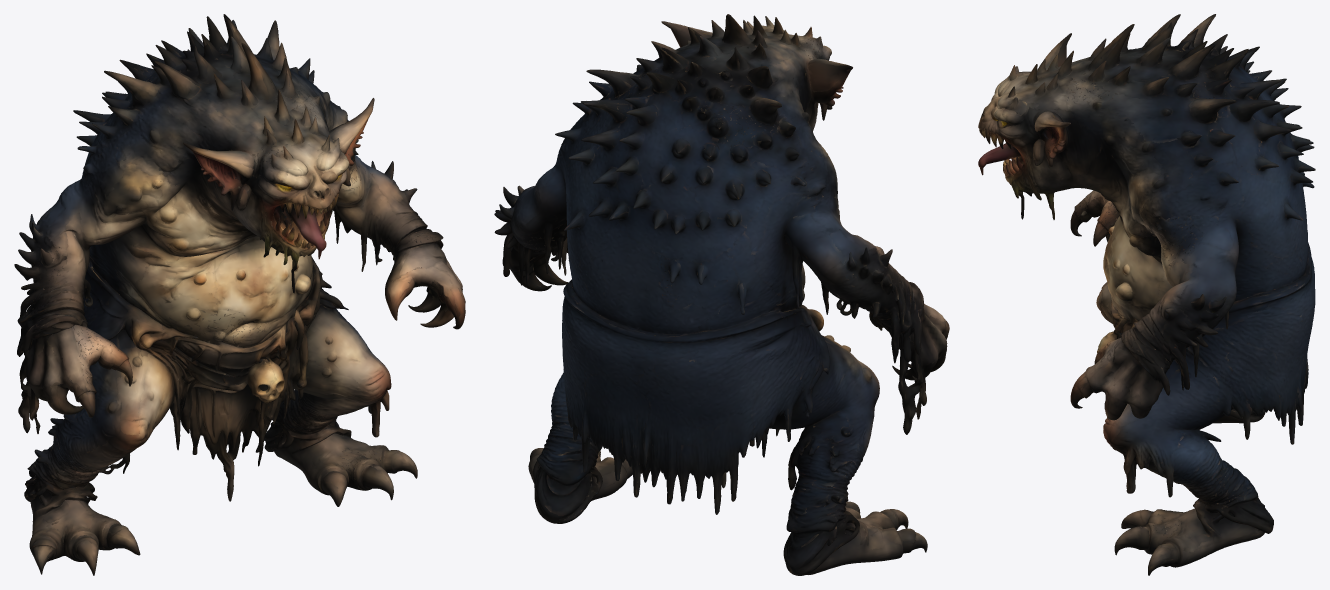
The model's file is dretch.glb.
3 views of the same model, side by side, from view 1: azimuth 30°, elevation 25°; view 2: azimuth 150°, elevation 25°; view 3: azimuth 270°, elevation 25° (orthographic). The views are drawn at different scales.
Visible parts, largest first — view 1: material; view 2: material; view 3: material.
Boxes of the visible parts, x1,y1,x2,y2 form: material: (14,14,465,575); material: (494,14,949,575); material: (978,14,1315,575).
Bounding box in the file's own units: 0.8296 × 0.9154 × 0.5988.
Materials: 1 (1 with a texture image).
